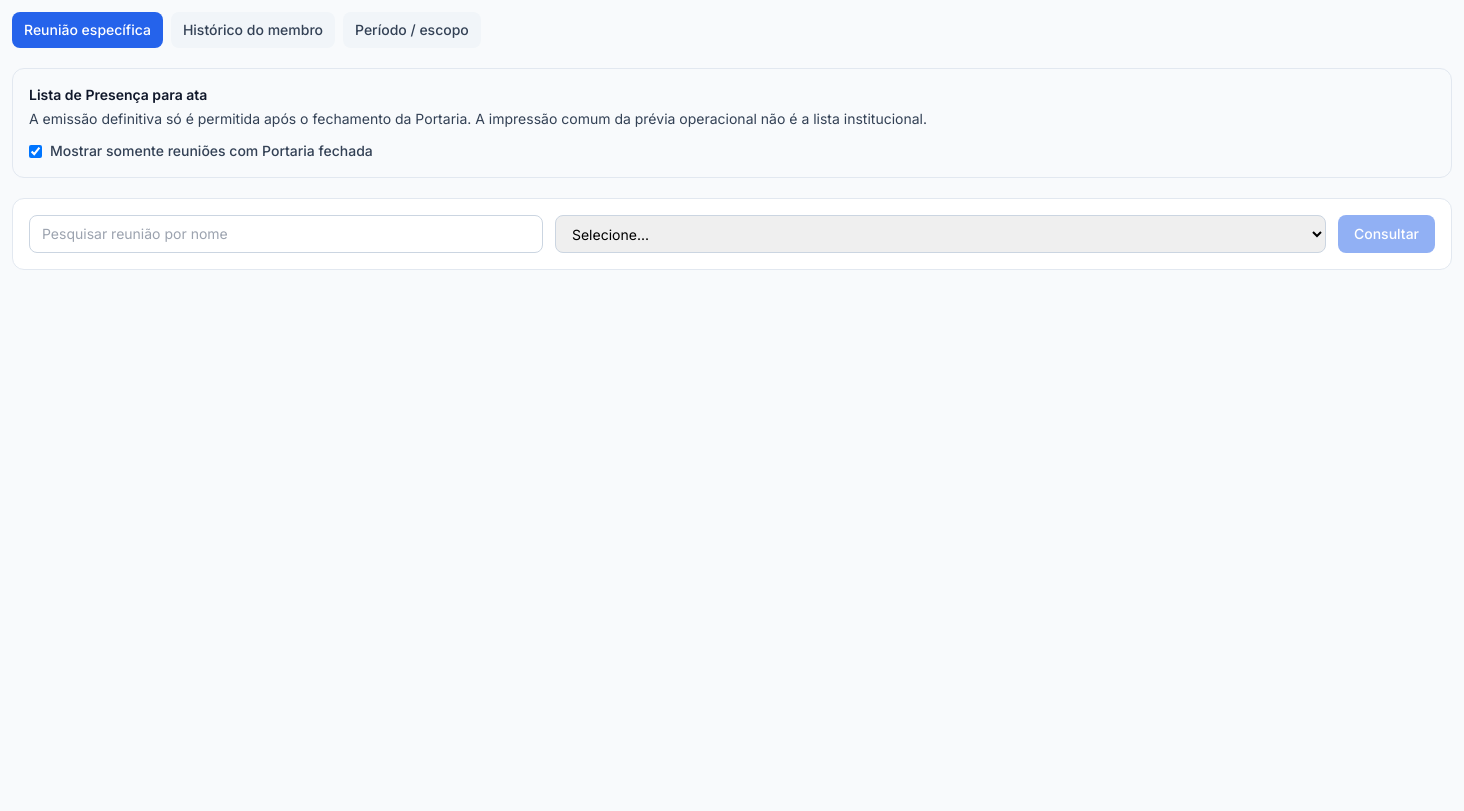
Test: REL-PRES-03 — seletores amigáveis dos relatórios de presença › pesquisa e seleciona reunião por nome antes de consultar
The width and height of the screenshot is (1464, 811).
Type "Regional" into the field labelled "Pesquisar reunião". click: (286, 234)
box: [29,215,543,253]
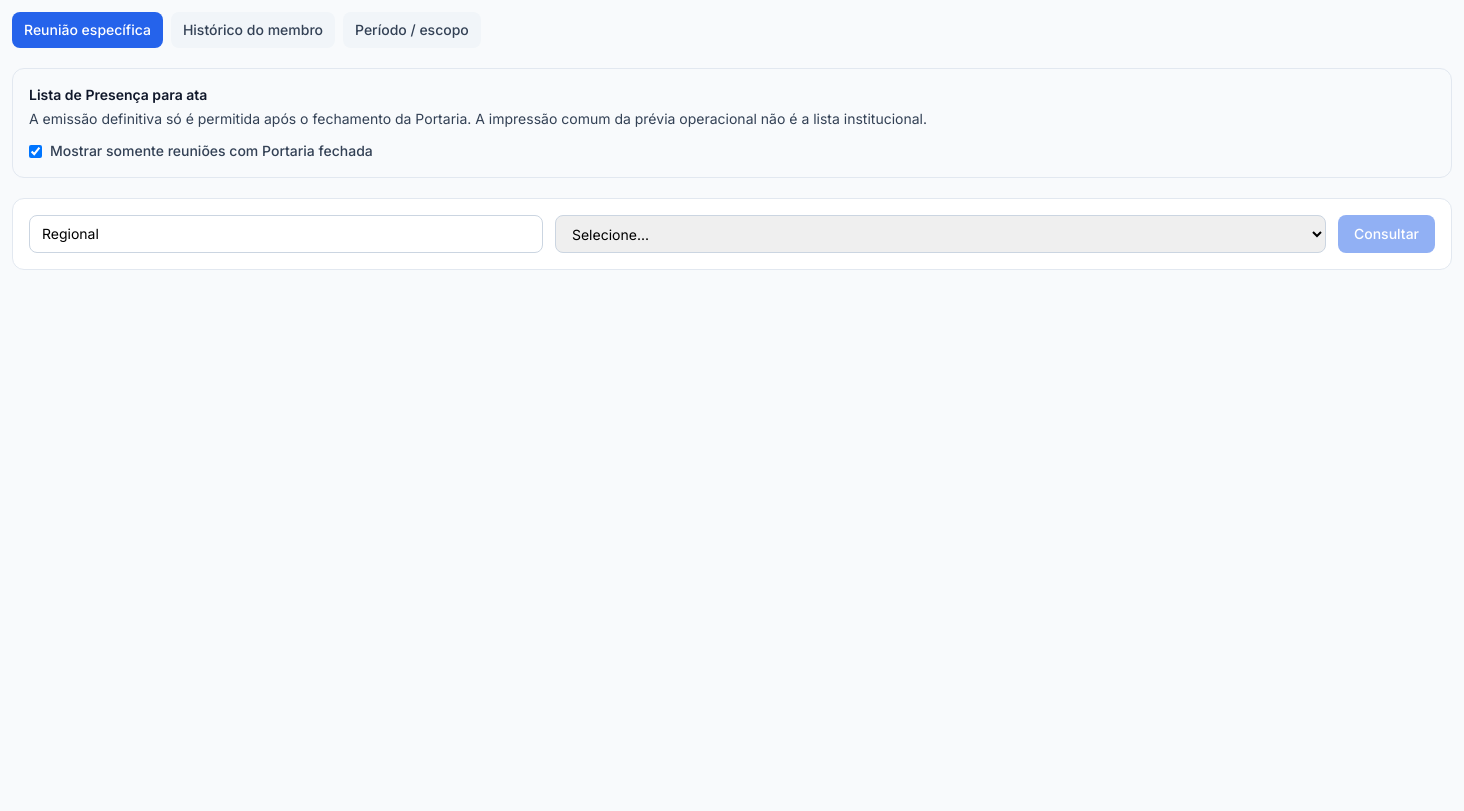
Select "FECHADA — Reunião Regional — 01/09/2026" in the dropdown named "Selecionar reunião". click: (940, 234)
box: [555,215,1326,253]
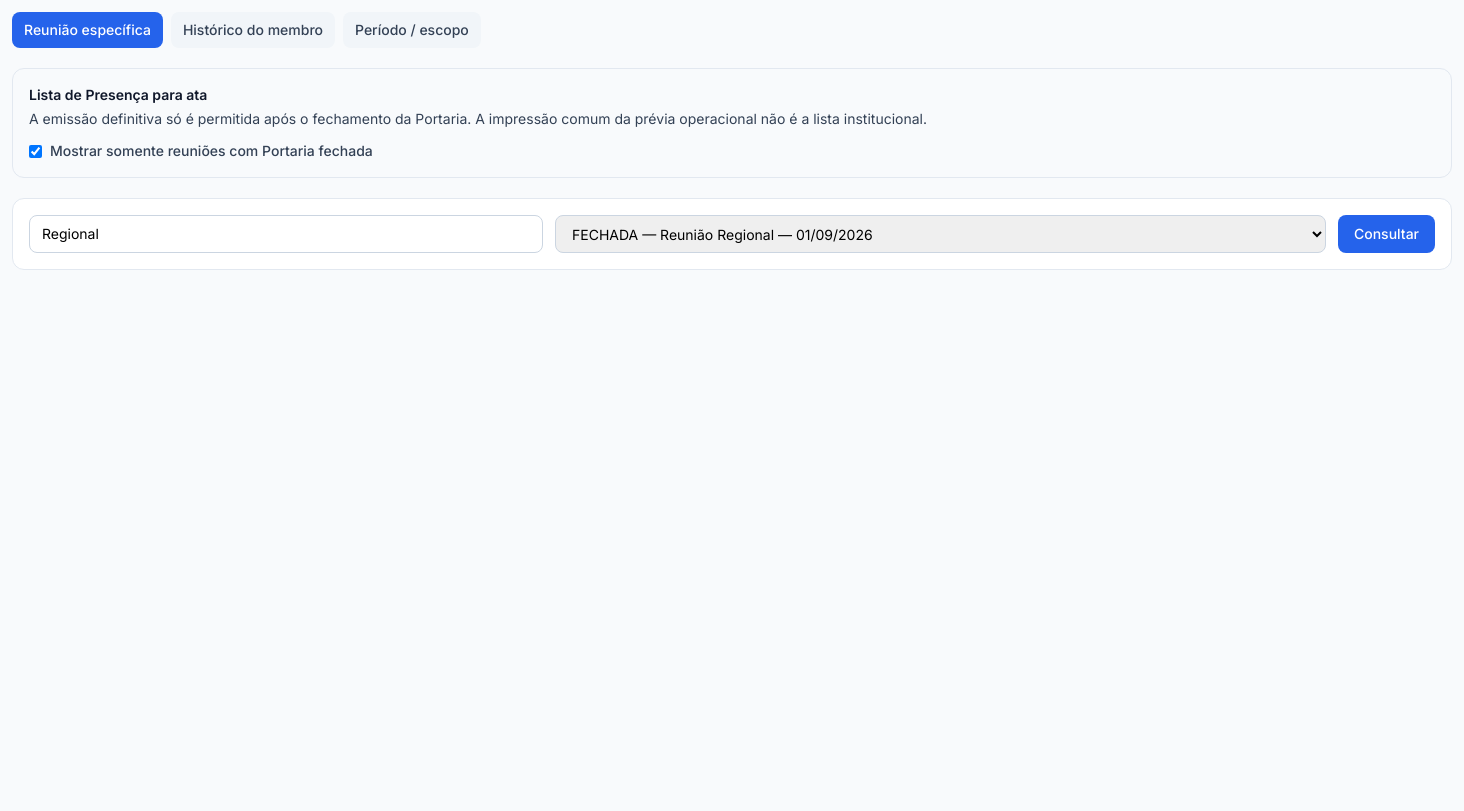
Click the button "Consultar". click: (1386, 234)
box: [1338,215,1435,253]
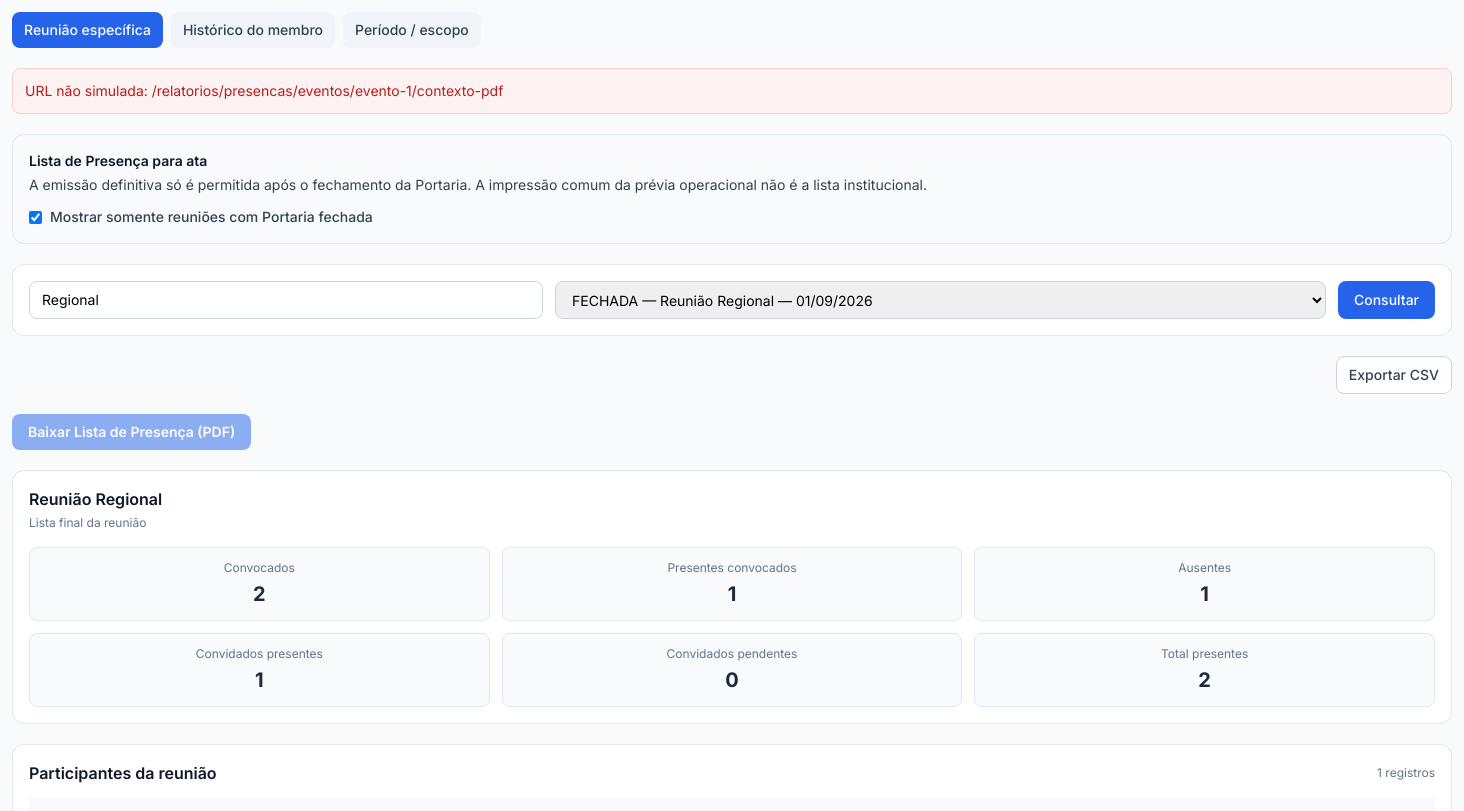
Expected: the heading "Reunião Regional" is shown, [29,489,162,509]
